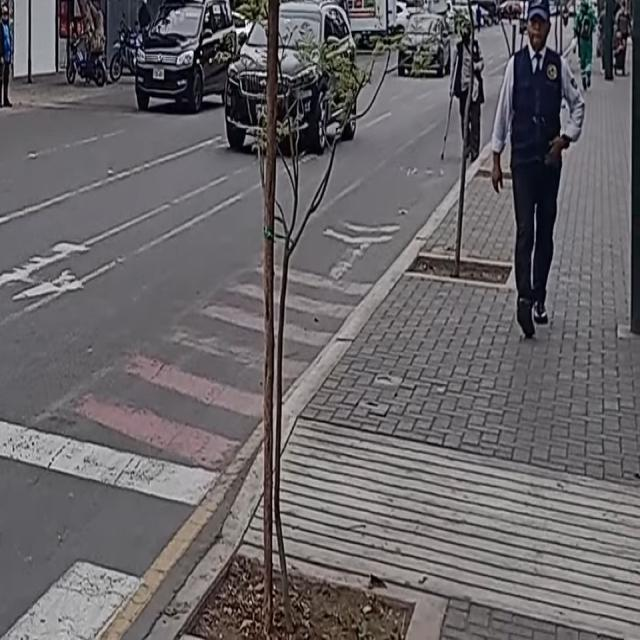car: (223, 2, 359, 154), (134, 0, 239, 109), (397, 13, 451, 78)
